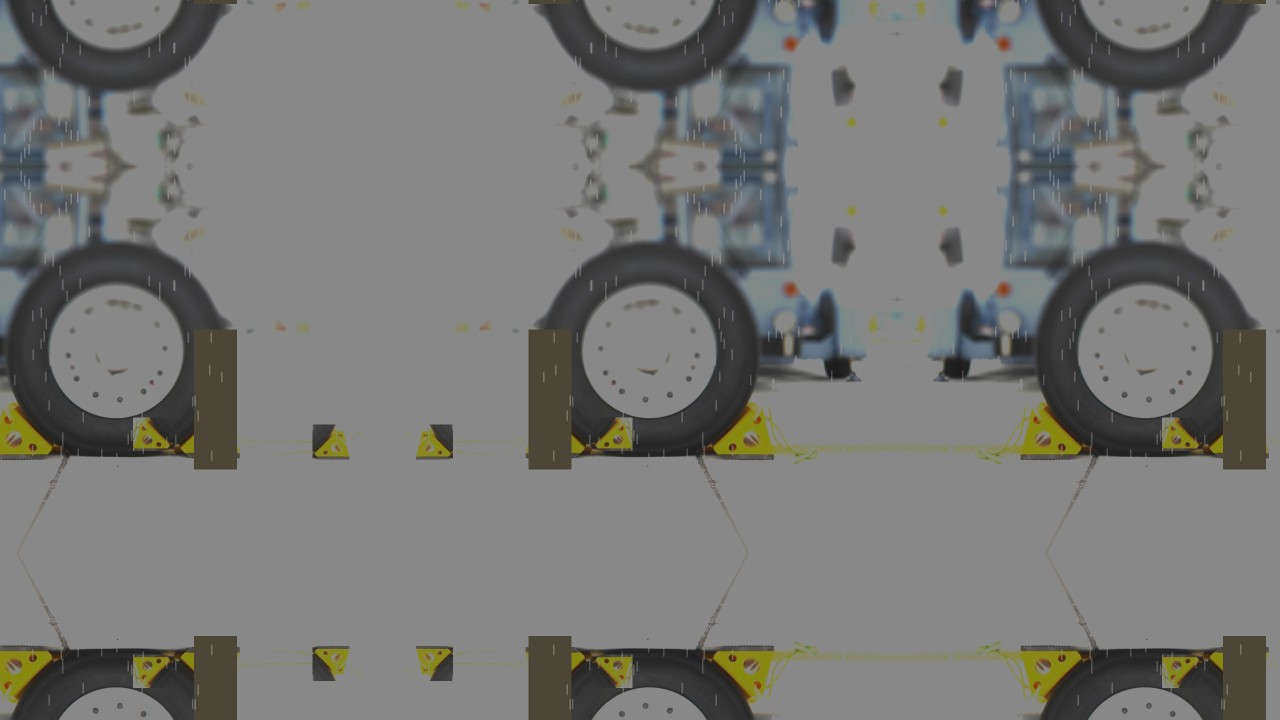chock: (707, 647, 776, 705), (1019, 647, 1088, 705), (707, 401, 776, 458), (1019, 401, 1088, 458), (176, 399, 241, 458), (524, 399, 589, 458), (1206, 399, 1271, 458), (176, 648, 241, 707), (524, 648, 589, 707), (1206, 648, 1271, 707), (0, 647, 58, 705), (0, 401, 58, 458), (132, 417, 173, 451), (1163, 417, 1204, 451), (592, 417, 632, 451), (132, 655, 173, 688), (1163, 655, 1204, 688), (312, 425, 350, 460), (415, 425, 453, 460), (312, 646, 350, 681), (415, 646, 453, 681), (592, 655, 632, 688)
wheel: (10, 244, 225, 456), (541, 244, 755, 456), (1040, 244, 1254, 456), (10, 0, 225, 90), (541, 0, 755, 90), (1040, 0, 1254, 90), (10, 650, 225, 720), (541, 650, 755, 720), (1040, 650, 1254, 720), (824, 357, 851, 378), (944, 357, 971, 378)
